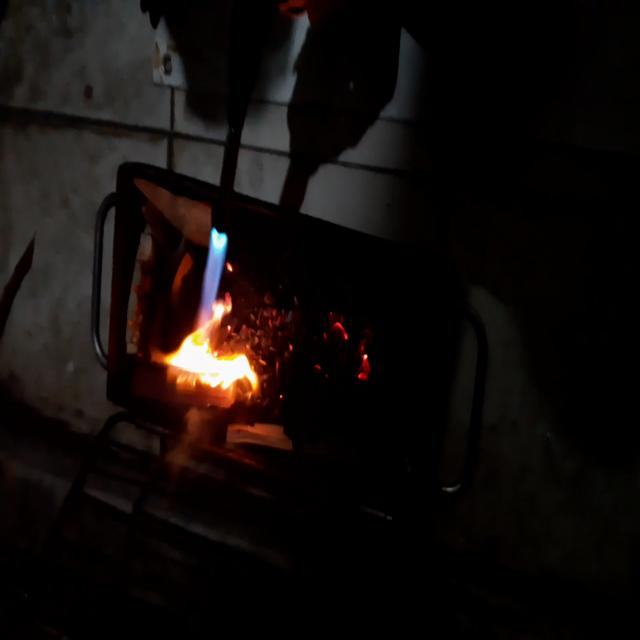Fire: (164, 196, 260, 424), (317, 287, 377, 404)
